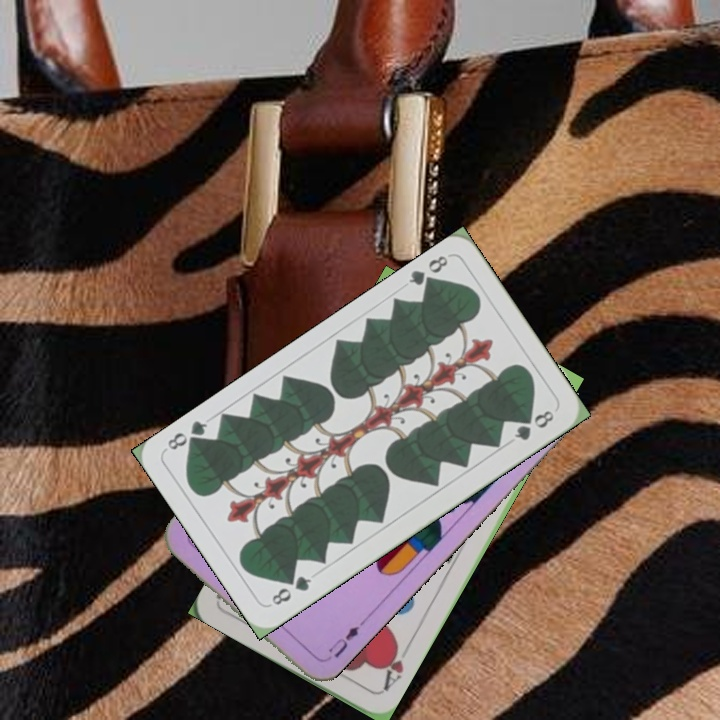EU: (320, 618, 367, 665)
G8: (404, 250, 452, 293), (267, 572, 315, 608)
HA: (377, 638, 413, 695)
